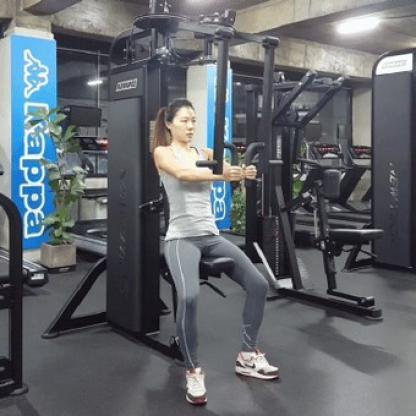chest fly machine: (23, 0, 301, 416)
